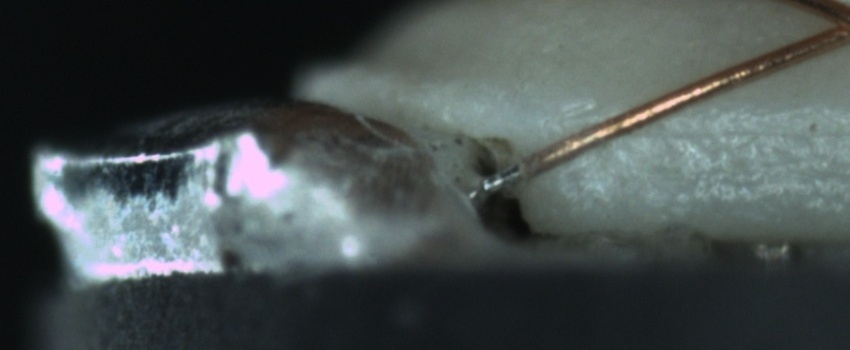CL: (807, 2, 849, 46)
DL: (626, 100, 849, 160)
TS: (476, 161, 528, 194)
